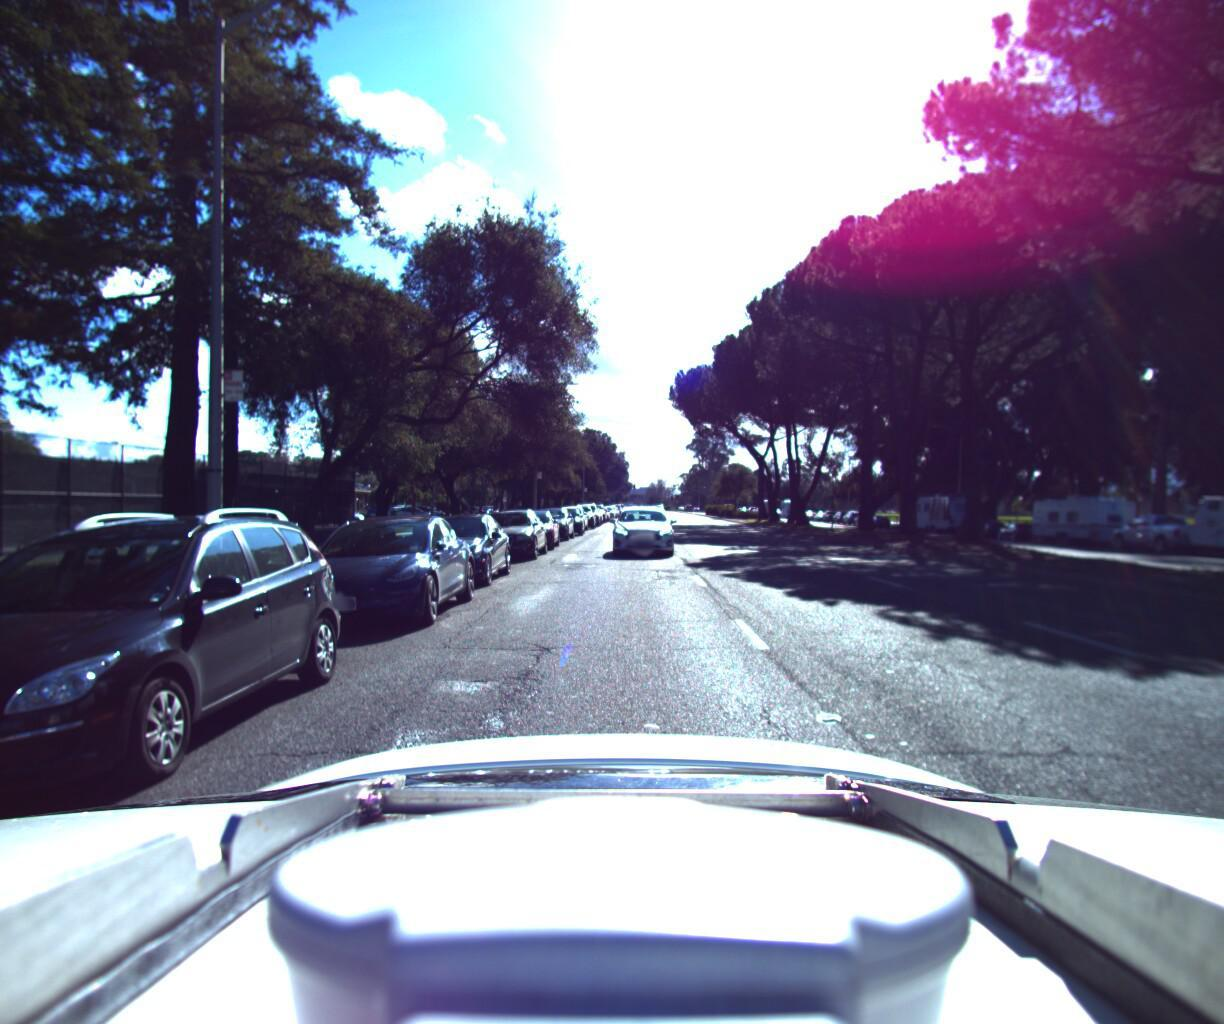car: (0, 504, 359, 857), (262, 506, 481, 635), (385, 505, 514, 590), (1102, 506, 1220, 551), (465, 501, 548, 557), (604, 502, 671, 555), (496, 501, 561, 546), (525, 500, 575, 536), (990, 513, 1043, 536), (961, 510, 1013, 532)
other_vehicle: (1020, 484, 1143, 544), (1170, 477, 1224, 569), (906, 483, 983, 528)
